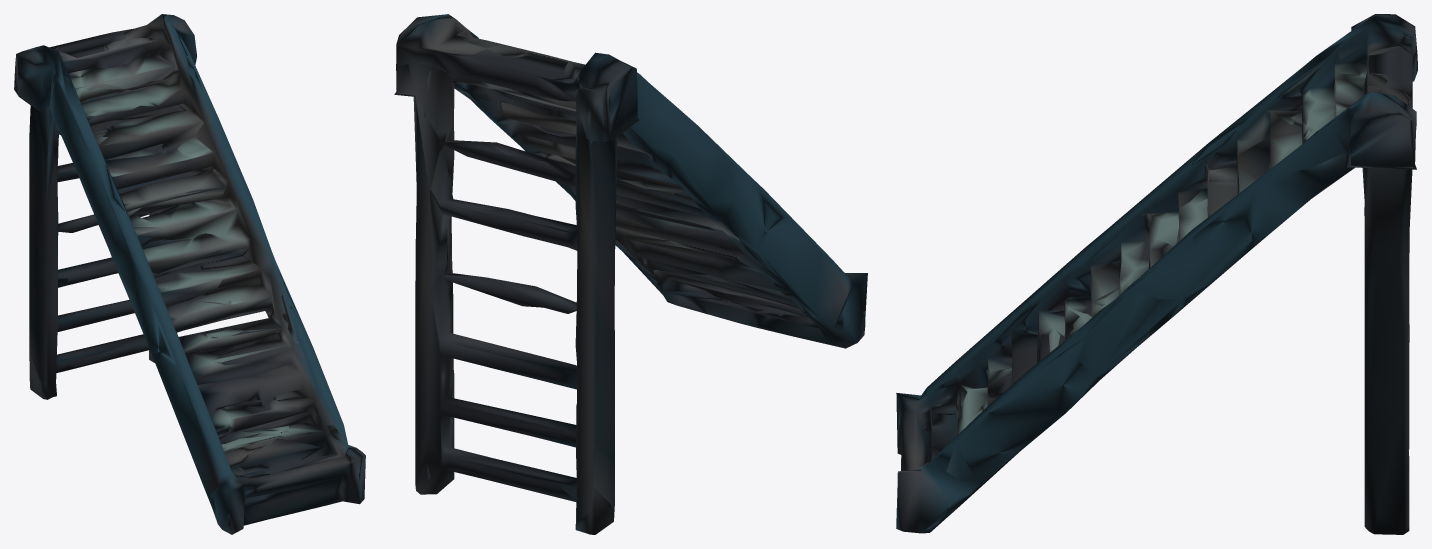
File: gen3d-conveyor-belt-lod0.glb
The picture shows the model from 3 angles, left to right: view 1: azimuth 30°, elevation 25°; view 2: azimuth 150°, elevation 25°; view 3: azimuth 270°, elevation 25°; orthographic projection. The views are drawn at different scales.
Parts seen in each view (by area): view 1: part_0; view 2: part_0; view 3: part_0.
Boxes of the visible parts, box(x1,y1,x2,y2) form: part_0: box(14, 14, 365, 534); part_0: box(394, 14, 867, 534); part_0: box(896, 14, 1417, 534).
Size of the model in its own units: 0.4712 by 0.9949 by 1.08.
